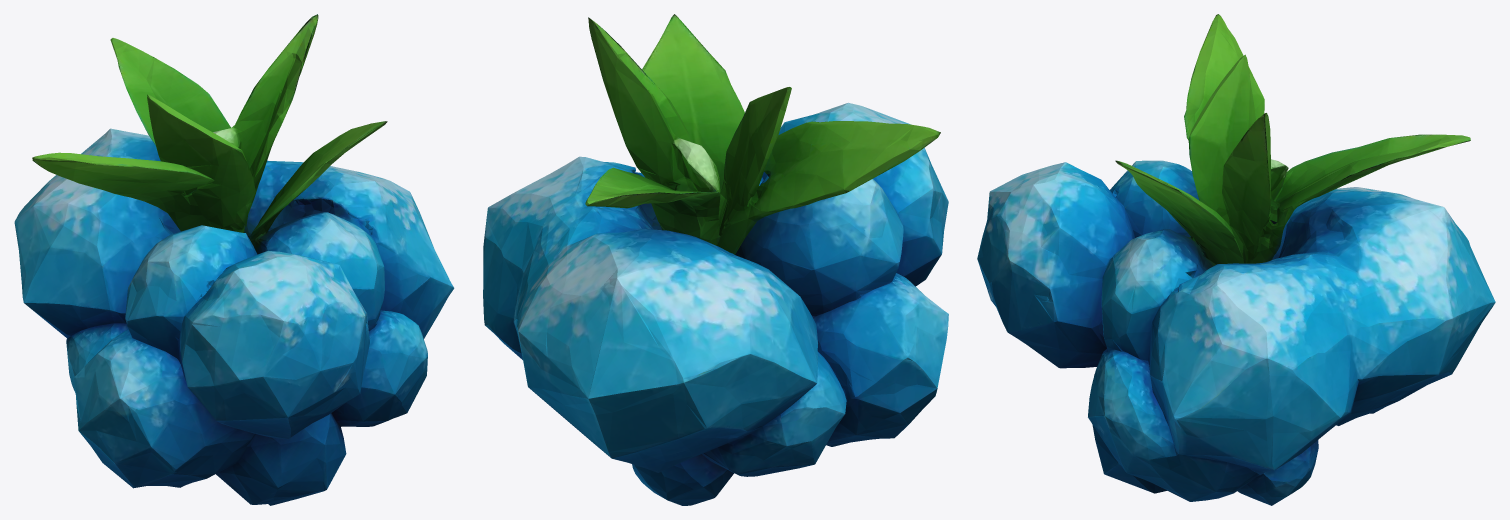
File: frostberry.glb
3 renders of one model, left to right at view 1: azimuth 30°, elevation 25°; view 2: azimuth 150°, elevation 25°; view 3: azimuth 270°, elevation 25°, orthographic. The views are drawn at different scales.
Parts seen in each view (by area): view 1: world; view 2: world; view 3: world.
Part boxes in pixels (x1=…): world: x1=14, y1=14, x2=454, y2=505; world: x1=483, y1=14, x2=948, y2=505; world: x1=977, y1=14, x2=1495, y2=505.
Size of the model in its own units: 0.8836 by 0.909 by 0.9934.
1 material, 1 textured.
